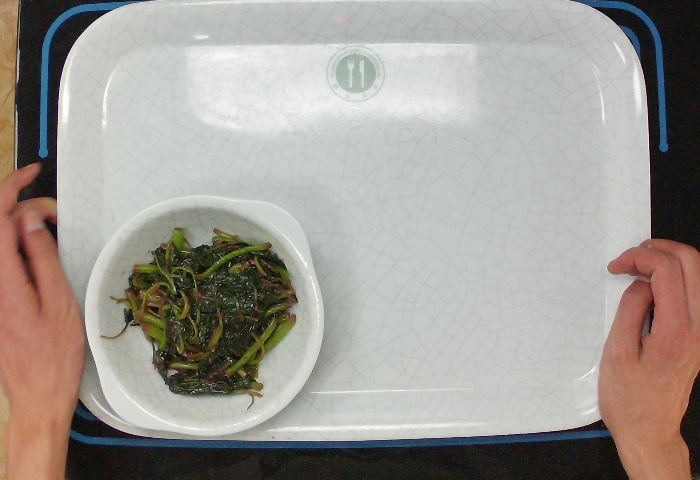JYsf-Shuang_Er_Wan: (86, 193, 326, 439)
